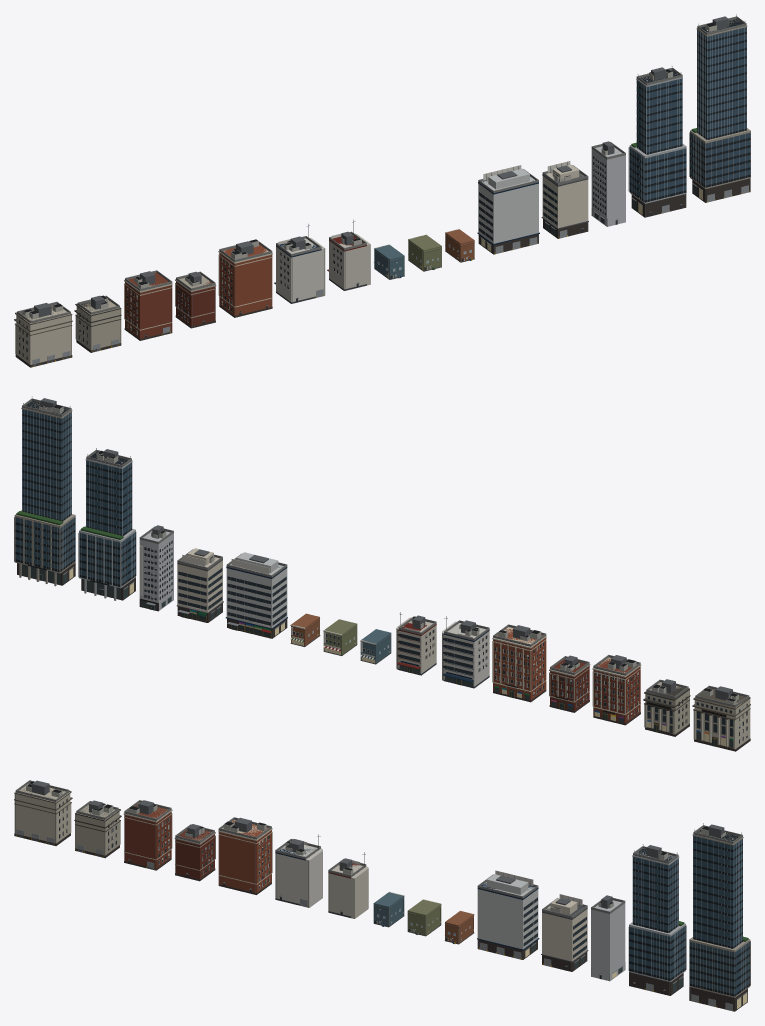
Rendered from minatofront.glb.
The picture shows the model from 3 angles, top to bottom: view 1: azimuth 30°, elevation 25°; view 2: azimuth 150°, elevation 25°; view 3: azimuth 330°, elevation 25°; orthographic projection.
Parts seen in each view (by area): view 1: minatofront_tower_b_body, minatofront_tower_a_body, minatofront_ribbon_a_body, minatofront_brick_c_body, minatofront_stone_a_body, minatofront_ribbon_b_body, minatofront_brick_a_body, minatofront_kaiun_a_body, minatofront_hotel_a_body, minatofront_stone_b_body, minatofront_kaiun_b_body, minatofront_brick_b_body (+3 smaller); view 2: minatofront_tower_b_body, minatofront_tower_a_body, minatofront_ribbon_a_body, minatofront_brick_c_body, minatofront_stone_a_body, minatofront_ribbon_b_body, minatofront_brick_a_body, minatofront_kaiun_a_body, minatofront_hotel_a_body, minatofront_stone_b_body, minatofront_kaiun_b_body, minatofront_brick_b_body (+3 smaller); view 3: minatofront_tower_b_body, minatofront_tower_a_body, minatofront_ribbon_a_body, minatofront_brick_c_body, minatofront_stone_a_body, minatofront_ribbon_b_body, minatofront_brick_a_body, minatofront_kaiun_a_body, minatofront_hotel_a_body, minatofront_stone_b_body, minatofront_kaiun_b_body, minatofront_brick_b_body (+3 smaller).
Boxes of the visible parts, x1,y1,x2,y2 form: minatofront_tower_b_body: [689, 14, 750, 202]; minatofront_tower_a_body: [628, 65, 686, 217]; minatofront_ribbon_a_body: [477, 165, 539, 254]; minatofront_brick_c_body: [218, 239, 272, 317]; minatofront_stone_a_body: [14, 301, 72, 367]; minatofront_ribbon_b_body: [541, 161, 588, 238]; minatofront_brick_a_body: [124, 270, 172, 340]; minatofront_kaiun_a_body: [274, 224, 325, 303]; minatofront_hotel_a_body: [591, 141, 625, 226]; minatofront_stone_b_body: [74, 295, 121, 352]; minatofront_kaiun_b_body: [327, 220, 370, 290]; minatofront_brick_b_body: [175, 271, 216, 328]; minatofront_tower_b_body: [14, 396, 75, 586]; minatofront_tower_a_body: [78, 447, 136, 600]; minatofront_ribbon_a_body: [225, 552, 287, 638]; minatofront_brick_c_body: [492, 624, 546, 702]; minatofront_stone_a_body: [692, 685, 750, 751]; minatofront_ribbon_b_body: [176, 548, 223, 622]; minatofront_brick_a_body: [592, 654, 641, 725]; minatofront_kaiun_a_body: [442, 616, 489, 688]; minatofront_hotel_a_body: [139, 525, 173, 611]; minatofront_stone_b_body: [643, 679, 690, 736]; minatofront_kaiun_b_body: [396, 612, 436, 675]; minatofront_brick_b_body: [549, 655, 590, 712]; minatofront_tower_b_body: [689, 823, 750, 1011]; minatofront_tower_a_body: [628, 844, 686, 995]; minatofront_ribbon_a_body: [477, 870, 539, 959]; minatofront_brick_c_body: [218, 817, 272, 894]; minatofront_stone_a_body: [14, 780, 72, 845]; minatofront_ribbon_b_body: [541, 894, 588, 971]; minatofront_brick_a_body: [123, 800, 172, 870]; minatofront_kaiun_a_body: [275, 834, 322, 907]; minatofront_hotel_a_body: [591, 895, 625, 981]; minatofront_stone_b_body: [74, 800, 121, 858]; minatofront_kaiun_b_body: [328, 852, 368, 918]; minatofront_brick_b_body: [174, 824, 215, 881].
Bounding box in the file's own units: 382 × 88.2 × 16.92.
